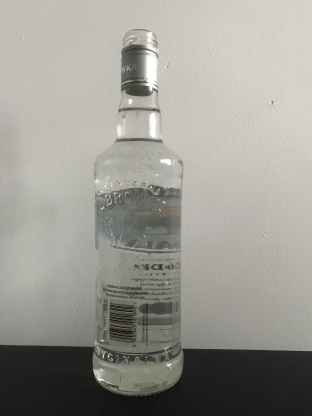nakretka: (119, 25, 160, 97)
